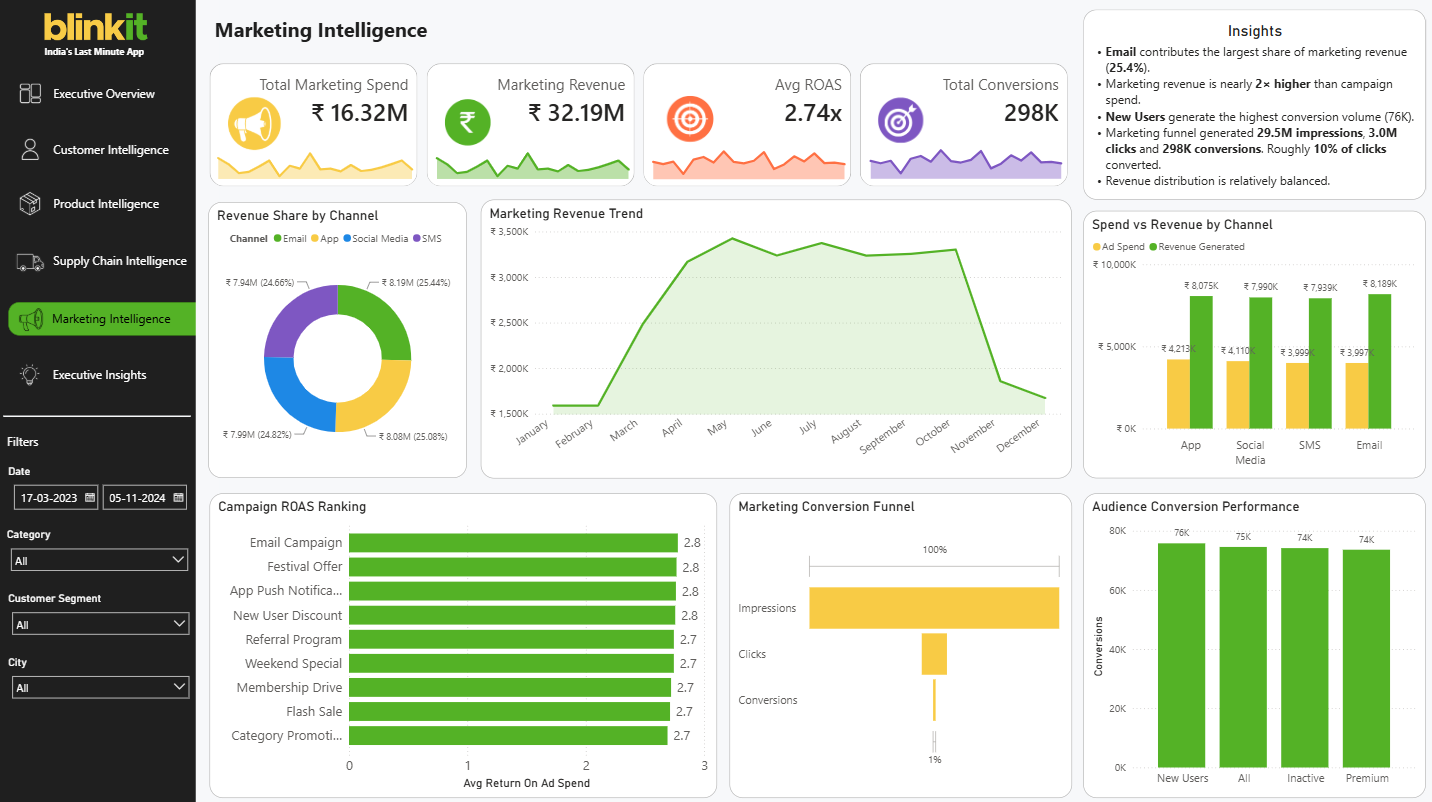

This screenshot's page, from the dashboard's own definition file:
{"tool":"powerbi","page":{"name":"Duplicate of Dashboard","canvas":[1920,1080],"ordinal":5},"visuals":[{"type":"shape","box":[0,0,266.7,1080],"z":0},{"type":"cardVisual","fields":{"Data":["Sum(marketing_summary.spend)","Sum(marketing_summary.revenue_generated)","Avg(marketing_summary.roas)","Sum(marketing_summary.conversions)"]},"box":[266.7,71.7,1181.7,198.3],"z":0,"group":"g8"},{"type":"shape","box":[20.4,107.2,221.1,44.4],"z":0,"group":"g1"},{"type":"shape","box":[17.8,181.7,240,44.4],"z":0,"group":"g2"},{"type":"shape","box":[17.8,255.2,240,44.4],"z":0,"group":"g3"},{"type":"shape","box":[20.4,332.2,240,44.4],"z":0,"group":"g4"},{"type":"shape","box":[15.7,406.4,268.6,45],"z":0,"group":"g6"},{"type":"shape","box":[20.4,406.5,240,44.4],"z":0,"group":"g5"},{"type":"shape","box":[17.8,481.7,240,44.4],"z":0,"group":"g7"},{"type":"group","id":"g1","title":"EO_Inactive","box":[20.4,107.2,221.2,44.4],"z":1000},{"type":"textbox","box":[70.7,111.8,156.6,35],"z":1000,"group":"g1"},{"type":"lineChart","fields":{"Category":["customer_clv.total_orders"],"Y":["CountNonNull(customer_clv.customer_id)"]},"box":[558,185.4,299,62.8],"z":1000,"group":"g8"},{"type":"textbox","box":[70.1,186.3,170,35.2],"z":1000,"group":"g2"},{"type":"textbox","box":[69.5,259.3,170,35.2],"z":1000,"group":"g3"},{"type":"textbox","box":[70.3,336.1,203.9,36.1],"z":1000,"group":"g4"},{"type":"textbox","box":[69.5,412.2,190,35.2],"z":1000,"group":"g6"},{"type":"textbox","box":[69.3,412.8,170,35.2],"z":1000,"group":"g5"},{"type":"textbox","box":[65,486.9,141.6,34.8],"z":1000,"group":"g7"},{"type":"image","box":[28.7,108.8,32.2,41],"z":2000,"group":"g1"},{"type":"lineChart","fields":{"Y":["Avg(customer_clv.total_revenue)"],"Category":["customer_clv.total_orders"]},"box":[847.3,185.7,298.6,63.2],"z":2000,"group":"g8"},{"type":"image","box":[25.6,187.3,34.8,33.2],"z":2000,"group":"g2"},{"type":"image","box":[25.6,259.3,34.5,35.5],"z":2000,"group":"g3"},{"type":"image","box":[25.1,334.9,38.4,39],"z":2000,"group":"g4"},{"type":"image","box":[28,408.3,32.9,38.4],"z":2000,"group":"g5"},{"type":"image","box":[27.7,410.7,37.4,38.1],"z":2000,"group":"g6"},{"type":"image","box":[27.9,485,30.3,38.1],"z":2000,"group":"g7"},{"type":"group","id":"g2","title":"CI_Inactive","box":[17.8,181.7,240,44.4],"z":3000},{"type":"lineChart","fields":{"Category":["customer_clv.total_orders"],"Y":["CountNonNull(customer_clv.customer_id)"]},"box":[266.8,185.4,302,62.8],"z":3000,"group":"g8"},{"type":"lineChart","fields":{"Category":["customer_clv.total_orders"],"Y":["Avg(customer_clv.total_revenue)"]},"box":[1135.9,184,297.5,64.2],"z":4000,"group":"g8"},{"type":"image","box":[595,130.9,65,71.4],"z":5000,"group":"g8"},{"type":"group","id":"g3","title":"PI_Inactive","box":[17.8,255.2,240,44.4],"z":5000},{"type":"image","box":[884.6,133.2,64.5,70],"z":6000,"group":"g8"},{"type":"image","box":[1172.3,127.3,65,73.3],"z":7000,"group":"g8"},{"type":"group","id":"g4","title":"SCI_Inactive","box":[20.4,332.2,253.7,44.4],"z":7000},{"type":"image","box":[307.3,129.5,73.3,78.3],"z":8000,"group":"g8"},{"type":"textbox","title":"Insights","box":[1448.3,16.7,456.7,253.3],"z":9000},{"type":"group","id":"g5","title":"MI_Inactive","box":[20.4,406.5,240,44.4],"z":10000},{"type":"group","id":"g6","title":"MI_Active","box":[15.7,406.4,268.6,45],"z":11000},{"type":"group","id":"g7","title":"EI_Inactive","box":[17.8,481.7,240,44.4],"z":12000},{"type":"shape","box":[265,0,31.7,1080],"z":14000},{"type":"group","id":"g8","title":"card","box":[266.7,71.7,1181.7,198.3],"z":15000},{"type":"image","box":[62.7,20.7,137.3,39.6],"z":16000},{"type":"textbox","box":[285,20,341.7,51.7],"z":17000},{"type":"textbox","box":[58.8,57.6,144.2,28.8],"z":18000},{"type":"slicer","title":"Date","fields":{"Values":["inventory_master.date"]},"box":[10,623.6,255,76.4],"z":19000},{"type":"slicer","title":"Category","fields":{"Values":["inventory_master.category"]},"box":[8.6,708.6,256.4,71.4],"z":20000},{"type":"shape","box":[8,551.3,250,14.7],"z":21000},{"type":"textbox","box":[8.3,576.7,141.7,38.3],"z":22000},{"type":"slicer","title":"Customer Segment","fields":{"Values":["customer_segments.Customer Segment Clean"]},"box":[9.3,792.9,256.4,71.4],"z":23000},{"type":"slicer","title":"City","fields":{"Values":["customer_clv.area"]},"box":[10,878.6,256.4,71.4],"z":24000},{"type":"donutChart","title":"Revenue Share by Channel","fields":{"Category":["marketing_summary.channel"],"Y":["Sum(marketing_summary.revenue_generated)"]},"box":[281.7,273.3,345,368.3],"z":29000},{"type":"lineChart","title":"Marketing Revenue Trend","fields":{"Category":["marketing_clean.date"],"Y":["Sum(marketing_clean.revenue_generated)"]},"box":[645,270,788.3,371.7],"z":30000},{"type":"clusteredColumnChart","title":"Spend vs Revenue by Channel","fields":{"Category":["marketing_summary.channel"],"Y":["Sum(marketing_summary.spend)","Sum(marketing_summary.revenue_generated)"]},"box":[1448,285,457,357],"z":31000},{"type":"columnChart","title":"Audience Conversion Performance","fields":{"Category":["marketing_clean.target_audience"],"Y":["Sum(marketing_clean.conversions)"]},"box":[1448.3,661.7,456.7,406.7],"z":32000},{"type":"funnel","title":"Marketing Conversion Funnel","fields":{"Y":["Sum(marketing_clean.impressions)","Sum(marketing_clean.clicks)","Sum(marketing_clean.conversions)"]},"box":[976.7,661.7,456.7,406.7],"z":33000},{"type":"barChart","title":"Campaign ROAS Ranking","fields":{"Category":["marketing_clean.campaign_name"],"Y":["Avg(marketing_clean.roas)"]},"box":[283.3,661.7,676.7,406.7],"z":34000}]}

Visuals, with their boxes on the page's 1920x1080 design canvas (x1, y1, x2, y2). These are canvas units, not pixel positions in the 1432x802 screenshot, which may show the page scaled, cropped or inside an application window:
shape: select_region(0, 0, 267, 1080)
cardVisual - Sum(marketing_summary.spend) x Sum(marketing_summary.revenue_generated): select_region(267, 72, 1448, 270)
shape: select_region(20, 107, 242, 152)
shape: select_region(18, 182, 258, 226)
shape: select_region(18, 255, 258, 300)
shape: select_region(20, 332, 260, 377)
shape: select_region(16, 406, 284, 451)
shape: select_region(20, 406, 260, 451)
shape: select_region(18, 482, 258, 526)
"EO_Inactive" group: select_region(20, 107, 242, 152)
textbox: select_region(71, 112, 227, 147)
lineChart - customer_clv.total_orders x CountNonNull(customer_clv.customer_id): select_region(558, 185, 857, 248)
textbox: select_region(70, 186, 240, 222)
textbox: select_region(70, 259, 240, 294)
textbox: select_region(70, 336, 274, 372)
textbox: select_region(70, 412, 260, 447)
textbox: select_region(69, 413, 239, 448)
textbox: select_region(65, 487, 207, 522)
image: select_region(29, 109, 61, 150)
lineChart - Avg(customer_clv.total_revenue) x customer_clv.total_orders: select_region(847, 186, 1146, 249)
image: select_region(26, 187, 60, 220)
image: select_region(26, 259, 60, 295)
image: select_region(25, 335, 64, 374)
image: select_region(28, 408, 61, 447)
image: select_region(28, 411, 65, 449)
image: select_region(28, 485, 58, 523)
"CI_Inactive" group: select_region(18, 182, 258, 226)
lineChart - customer_clv.total_orders x CountNonNull(customer_clv.customer_id): select_region(267, 185, 569, 248)
lineChart - customer_clv.total_orders x Avg(customer_clv.total_revenue): select_region(1136, 184, 1433, 248)
image: select_region(595, 131, 660, 202)
"PI_Inactive" group: select_region(18, 255, 258, 300)
image: select_region(885, 133, 949, 203)
image: select_region(1172, 127, 1237, 201)
"SCI_Inactive" group: select_region(20, 332, 274, 377)
image: select_region(307, 130, 381, 208)
"Insights" textbox: select_region(1448, 17, 1905, 270)
"MI_Inactive" group: select_region(20, 406, 260, 451)
"MI_Active" group: select_region(16, 406, 284, 451)
"EI_Inactive" group: select_region(18, 482, 258, 526)
shape: select_region(265, 0, 297, 1080)
"card" group: select_region(267, 72, 1448, 270)
image: select_region(63, 21, 200, 60)
textbox: select_region(285, 20, 627, 72)
textbox: select_region(59, 58, 203, 86)
"Date" slicer: select_region(10, 624, 265, 700)
"Category" slicer: select_region(9, 709, 265, 780)
shape: select_region(8, 551, 258, 566)
textbox: select_region(8, 577, 150, 615)
"Customer Segment" slicer: select_region(9, 793, 266, 864)
"City" slicer: select_region(10, 879, 266, 950)
"Revenue Share by Channel" donutChart: select_region(282, 273, 627, 642)
"Marketing Revenue Trend" lineChart: select_region(645, 270, 1433, 642)
"Spend vs Revenue by Channel" clusteredColumnChart: select_region(1448, 285, 1905, 642)
"Audience Conversion Performance" columnChart: select_region(1448, 662, 1905, 1068)
"Marketing Conversion Funnel" funnel: select_region(977, 662, 1433, 1068)
"Campaign ROAS Ranking" barChart: select_region(283, 662, 960, 1068)
